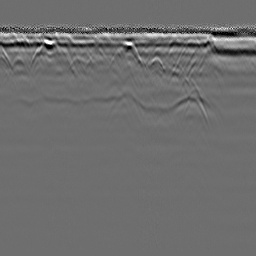cavity: (108, 40, 143, 67)
